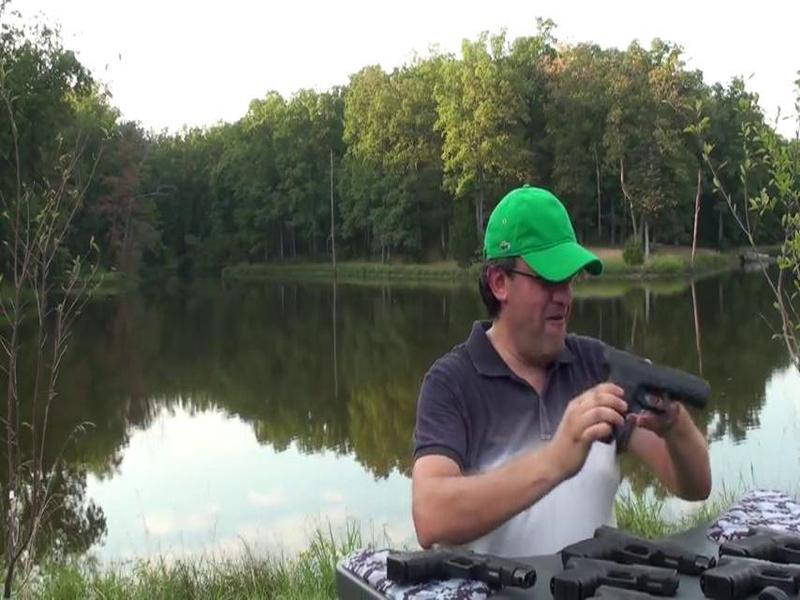Pistola: (587, 338, 720, 446), (374, 530, 533, 597), (553, 544, 680, 596)
